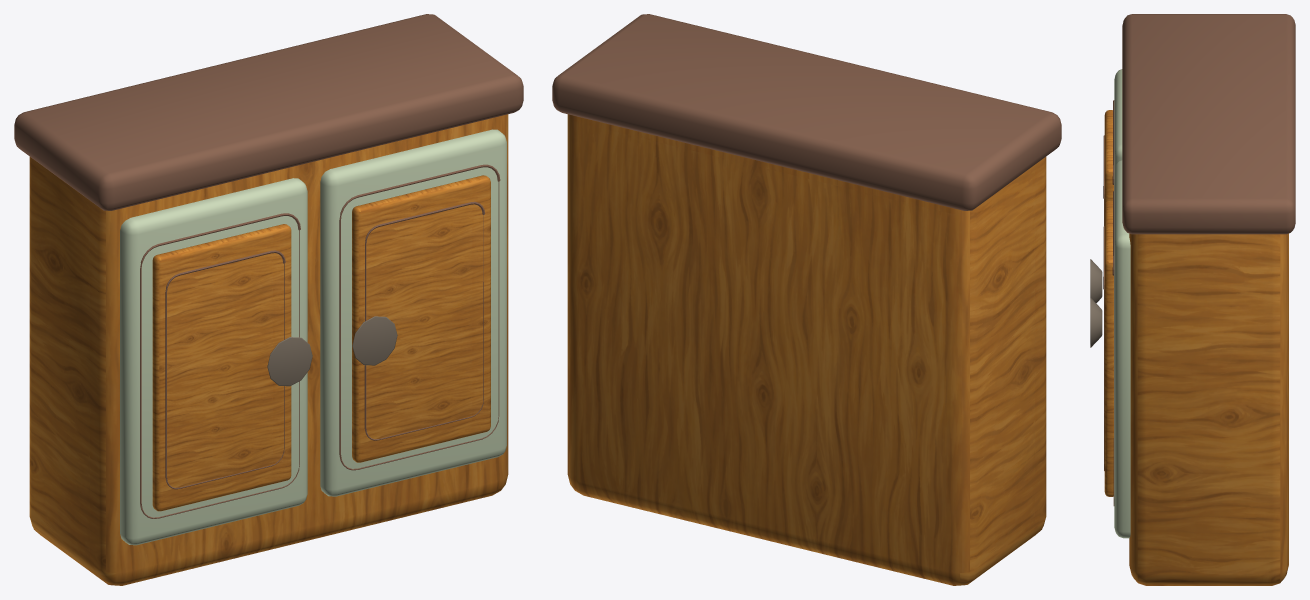
The model's file is wall-cabinet.glb.
The picture shows the model from 3 angles, left to right: view 1: azimuth 30°, elevation 25°; view 2: azimuth 150°, elevation 25°; view 3: azimuth 270°, elevation 25°; orthographic projection. The views are drawn at different scales.
Visible parts, largest first — view 1: wall-cabinet; view 2: wall-cabinet; view 3: wall-cabinet.
Boxes of the visible parts, box(x1,y1,x2,y2) form: wall-cabinet: box(14, 14, 523, 585); wall-cabinet: box(552, 14, 1061, 585); wall-cabinet: box(1090, 14, 1295, 585).
Size of the model in its own units: 0.8 by 0.76 by 0.36.
4 materials, 1 textured.
